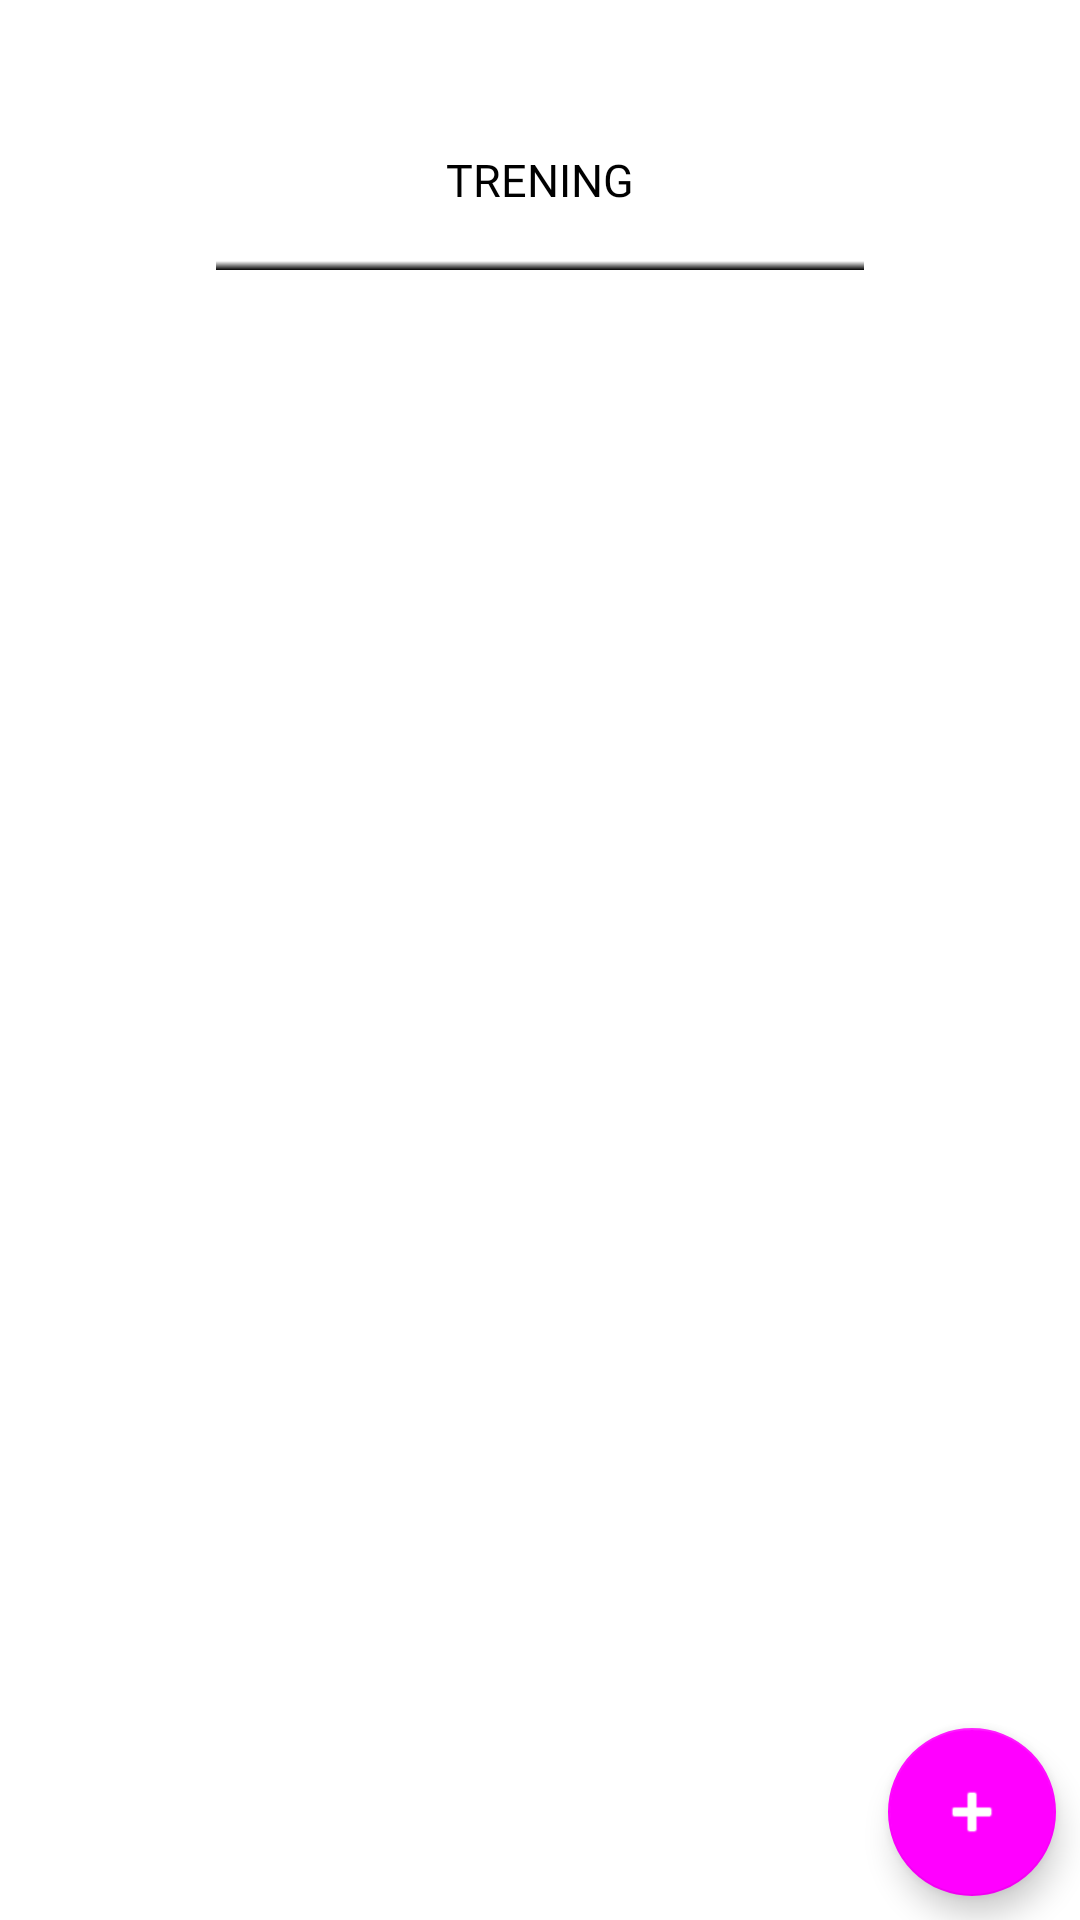

Icons on this 1080x1920 Android screen, each with its box as (x1, y1, x2, y2):
add: (888, 1728, 1056, 1896)
